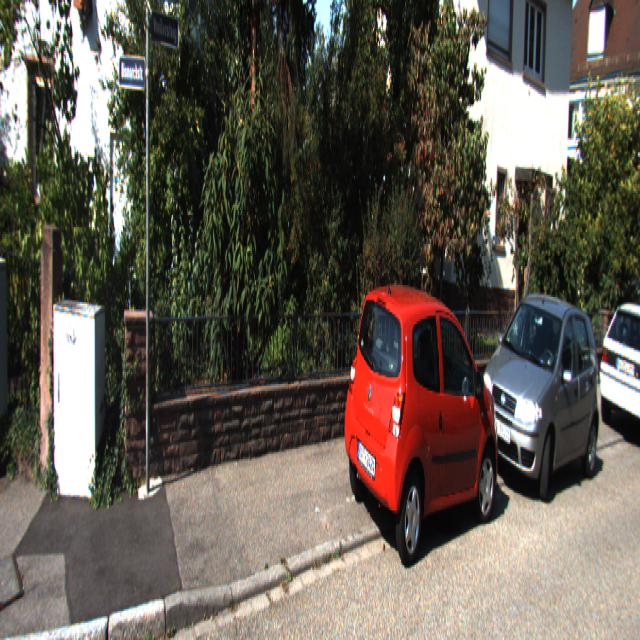Car: (343, 280, 503, 584), (474, 281, 601, 504), (596, 306, 640, 452)
